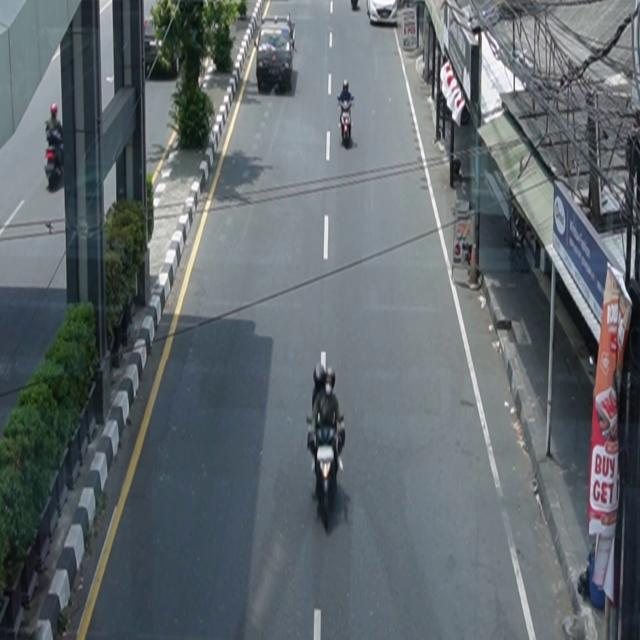car: (255, 25, 295, 94), (367, 1, 398, 26)
